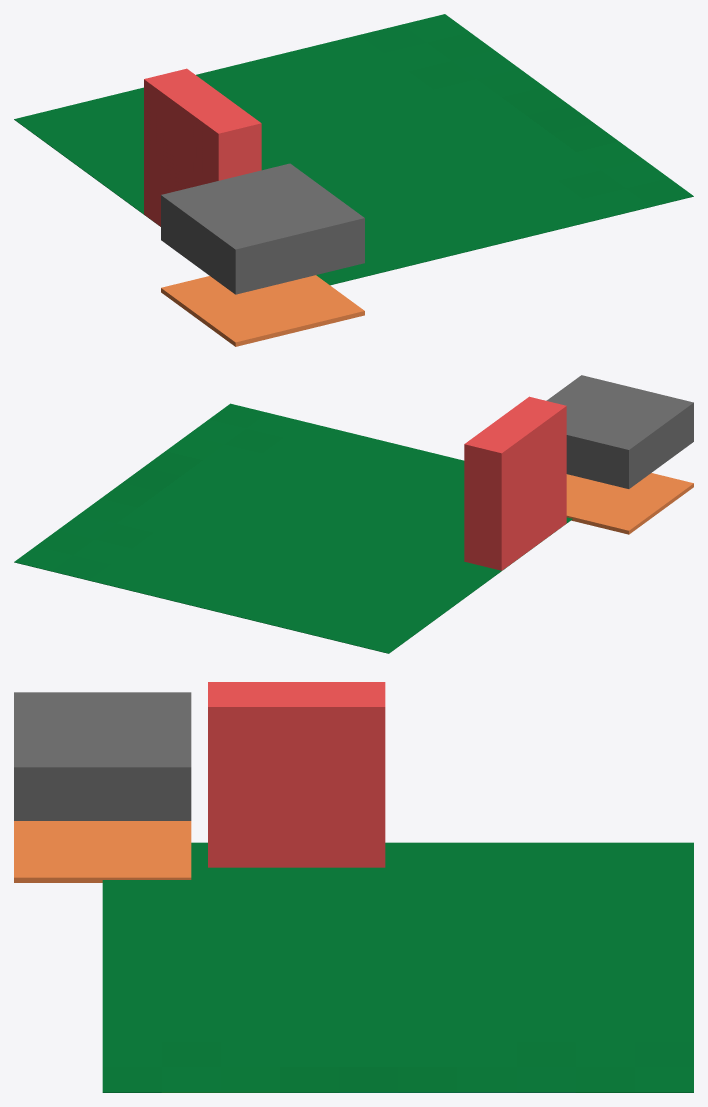
Rendered from house5_9_5_9_2.gltf.
3 renders of one model, top to bottom at view 1: azimuth 30°, elevation 25°; view 2: azimuth 150°, elevation 25°; view 3: azimuth 270°, elevation 25°, orthographic. The views are drawn at different scales.
Visible parts, largest first — view 1: Cube.003, Cube.002, Cube.001, Cube; view 2: Cube.003, Cube.001, Cube.002, Cube; view 3: Cube.003, Cube.001, Cube.002, Cube.
Part boxes in pixels (x1,y1,x2,y2): Cube.003: [14, 14, 693, 285]; Cube.002: [161, 163, 364, 294]; Cube.001: [144, 68, 261, 226]; Cube: [161, 275, 364, 346]; Cube.003: [14, 403, 572, 653]; Cube.001: [464, 396, 566, 570]; Cube.002: [546, 375, 693, 488]; Cube: [566, 473, 693, 534]; Cube.003: [102, 842, 693, 1092]; Cube.001: [208, 682, 385, 867]; Cube.002: [14, 692, 191, 820]; Cube: [14, 821, 191, 882].
Size of the model in its own units: 23 by 6.1 by 23.
Materials: 4 (4 with a texture image).
